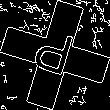P_S: (30, 25, 80, 85)
